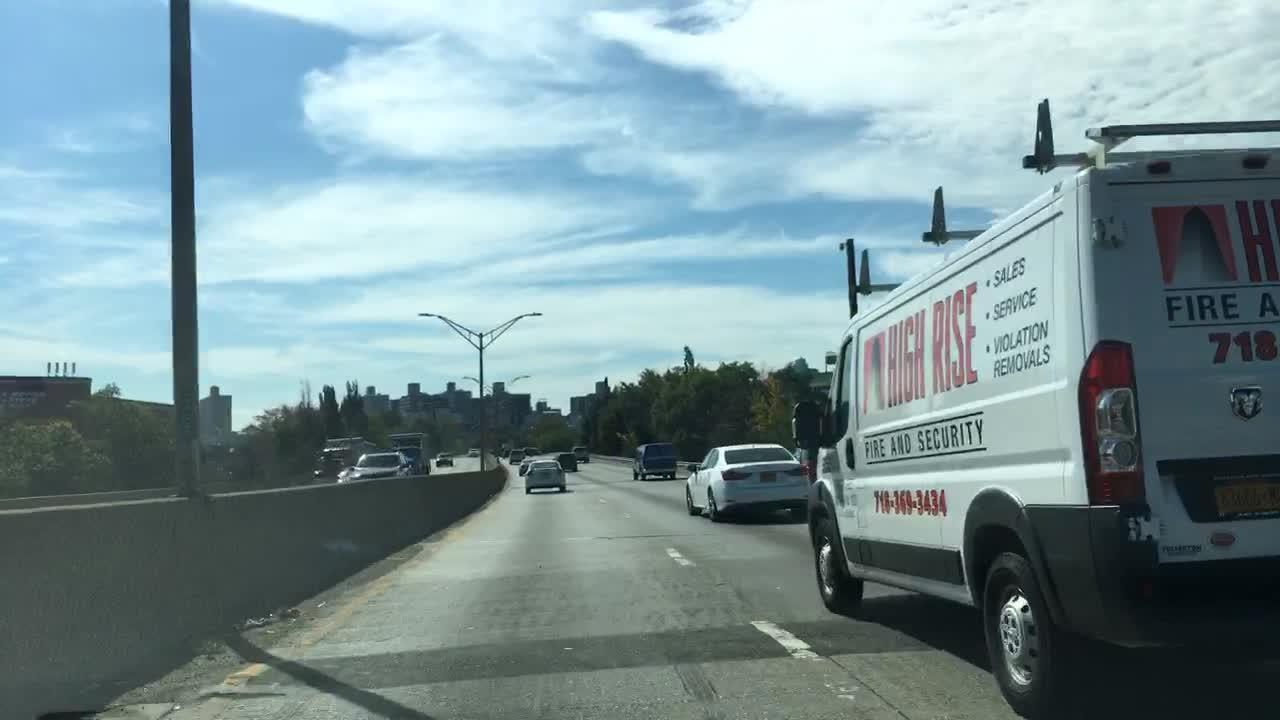ram: (1222, 383, 1274, 425)
